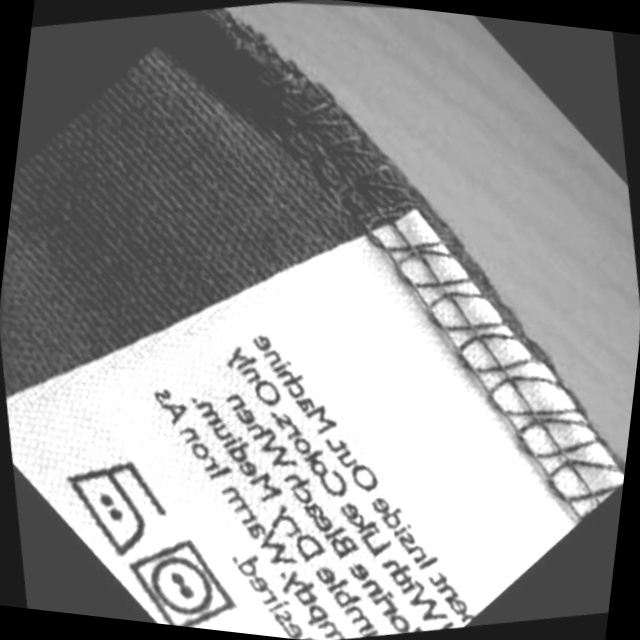iron_medium: (34, 431, 190, 580)
tumble_dry_medium: (104, 512, 259, 634)
